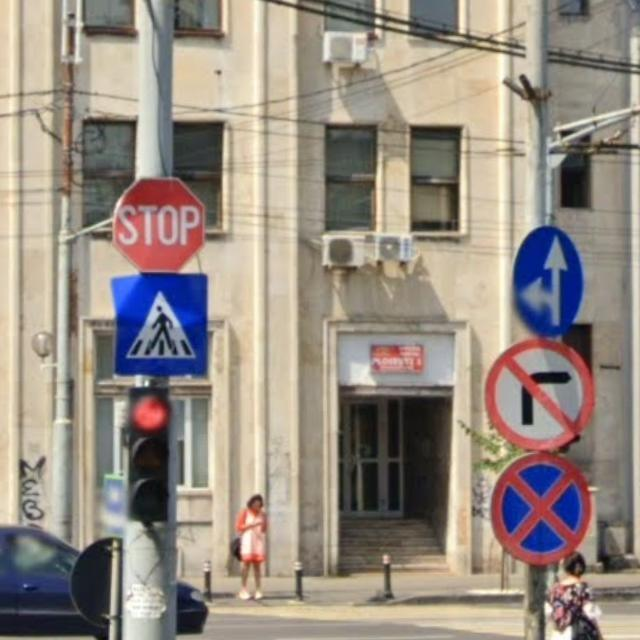forb_waiting: (490, 455, 593, 570)
info_crosswalk: (114, 273, 212, 378)
prio_stop: (107, 173, 205, 276)
